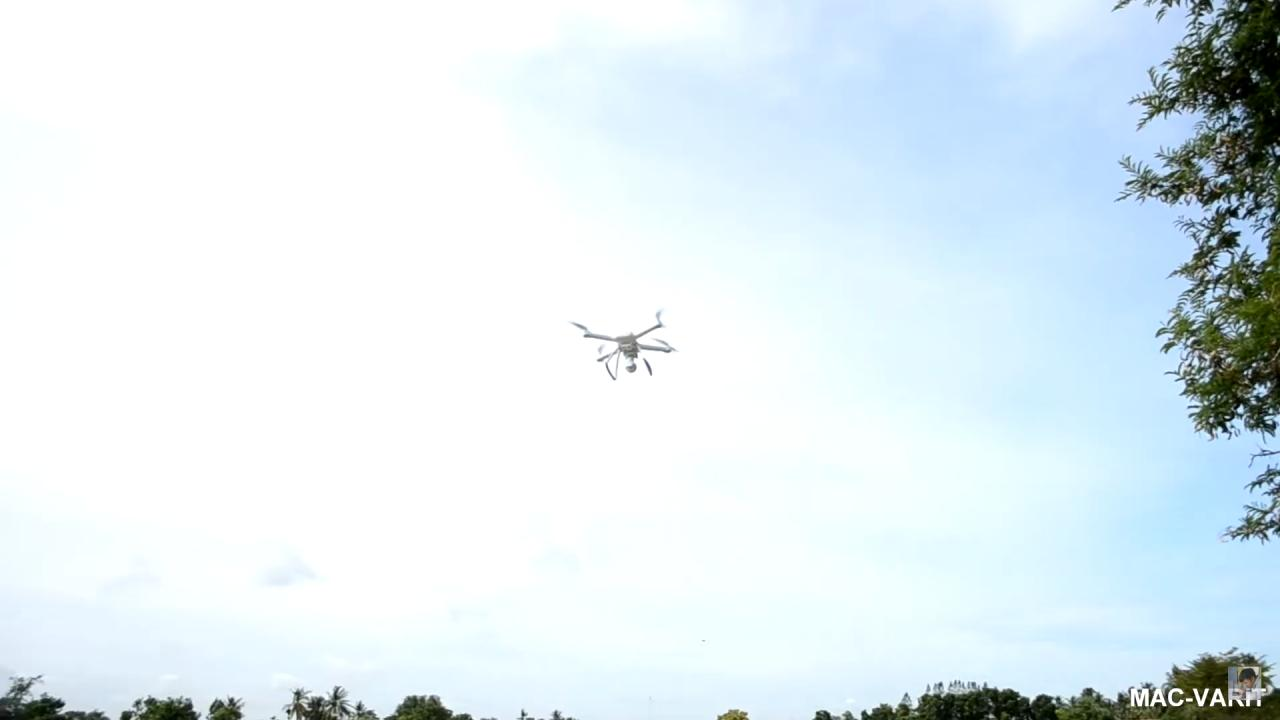Drone: (550, 298, 696, 398)
